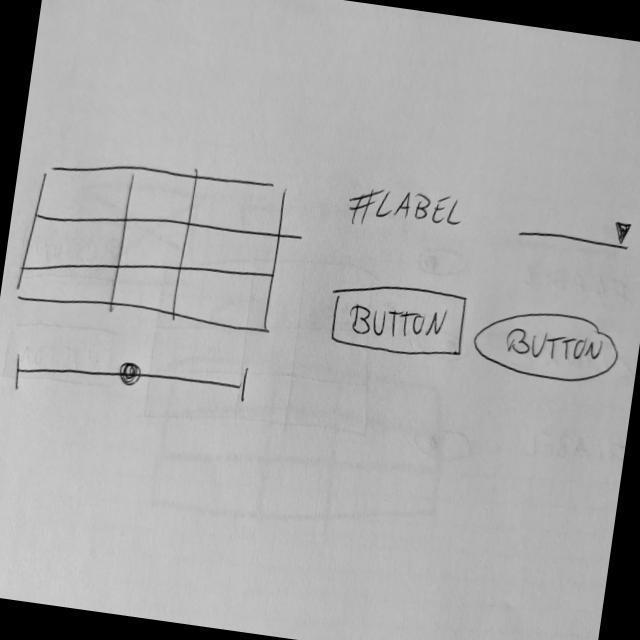button: (469, 301, 628, 394), (326, 274, 471, 368)
label: (344, 179, 469, 243)
select: (516, 205, 637, 256)
slider: (7, 332, 256, 426)
table: (13, 145, 293, 344)
